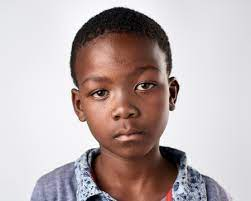person: (68, 6, 180, 160)
